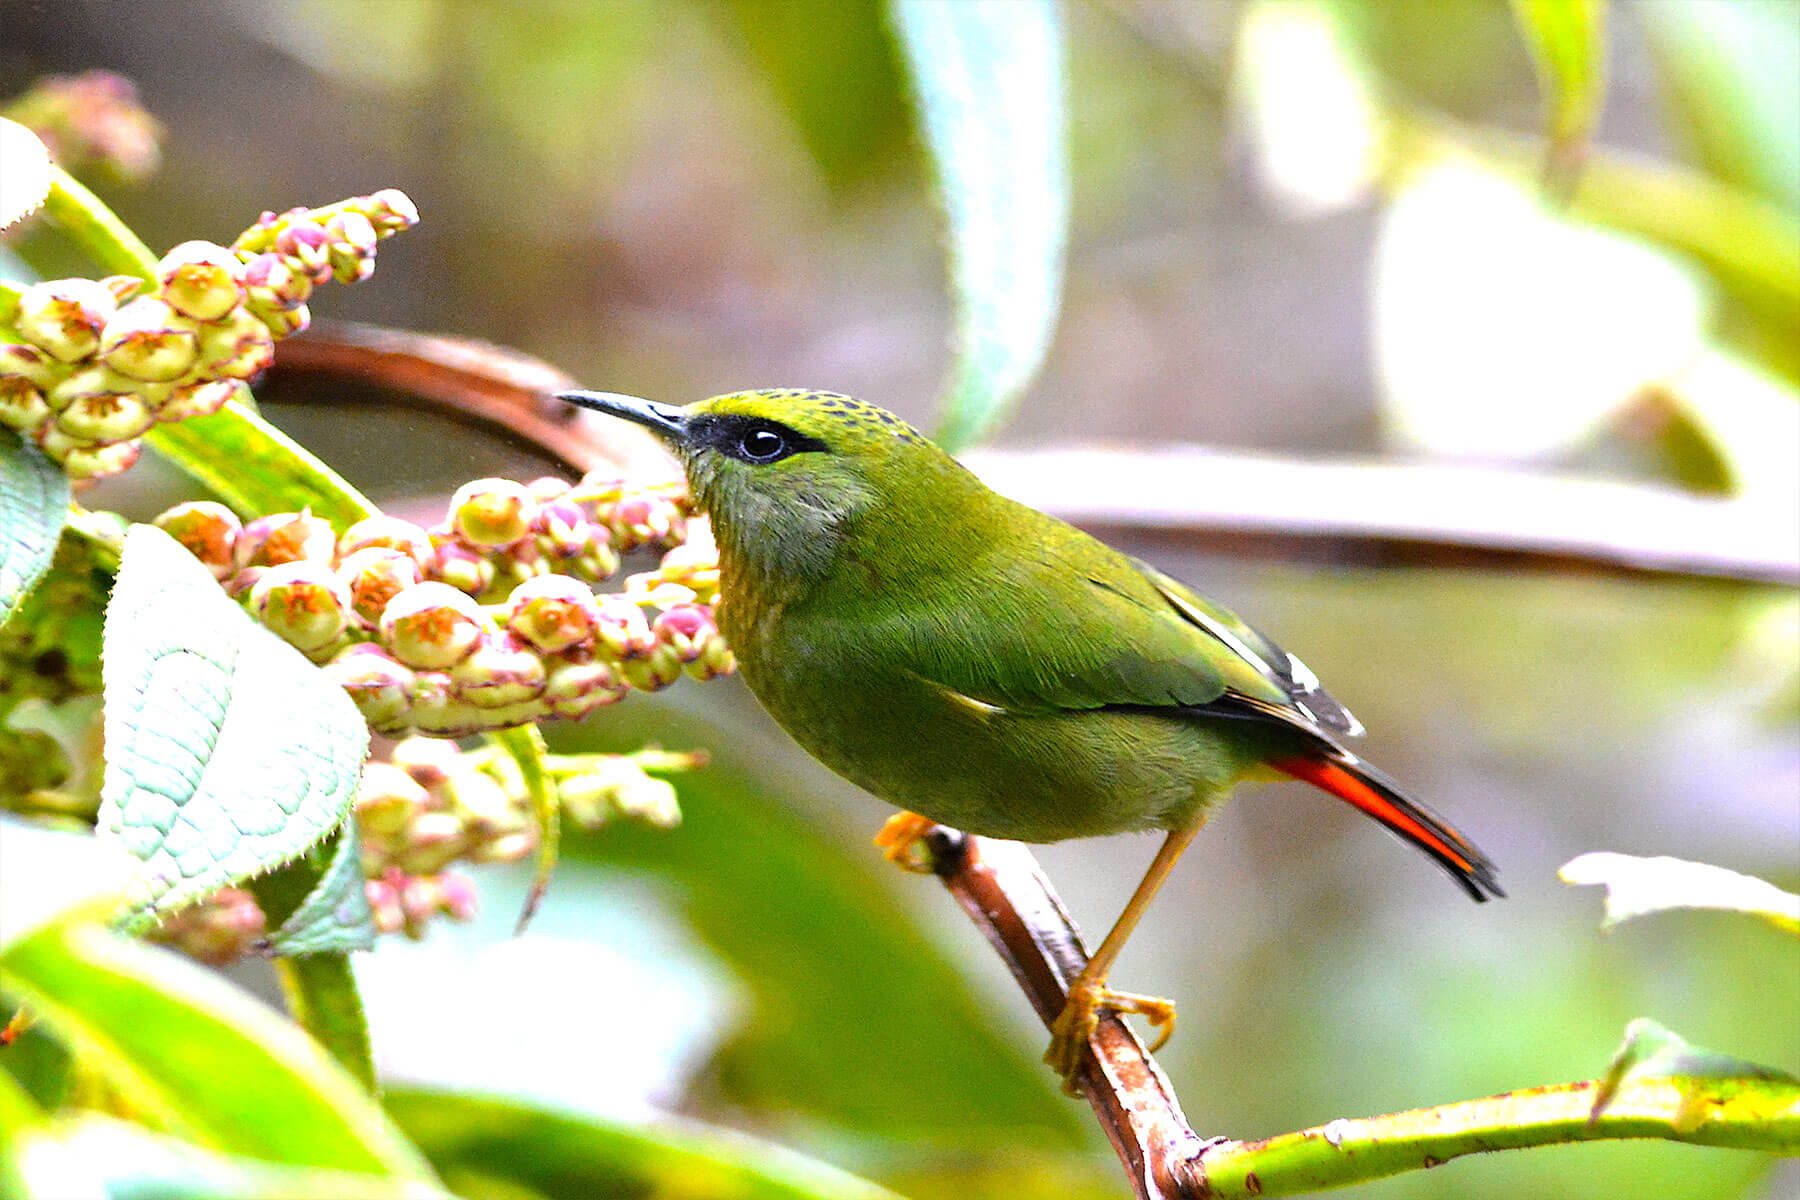bird: (524, 342, 1560, 1094)
